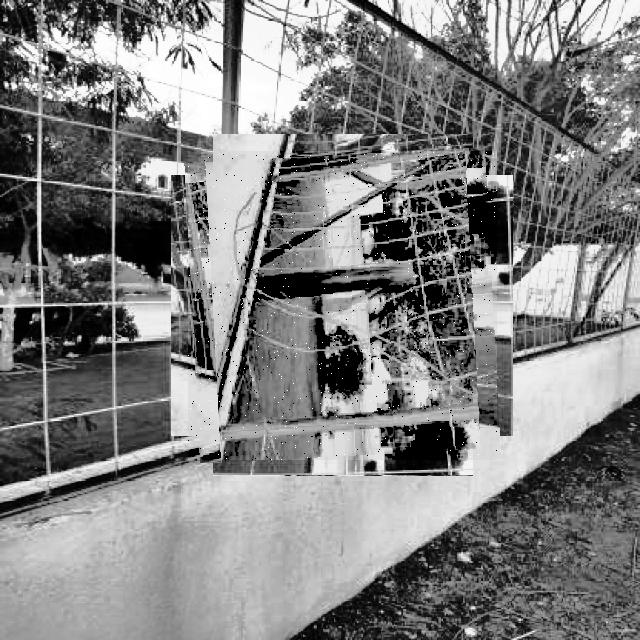anomaly-fence: (188, 151, 497, 460)
